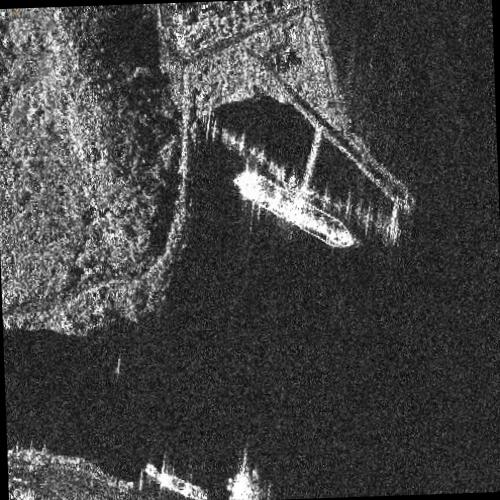ship: (233, 167, 355, 249), (144, 461, 208, 500)
